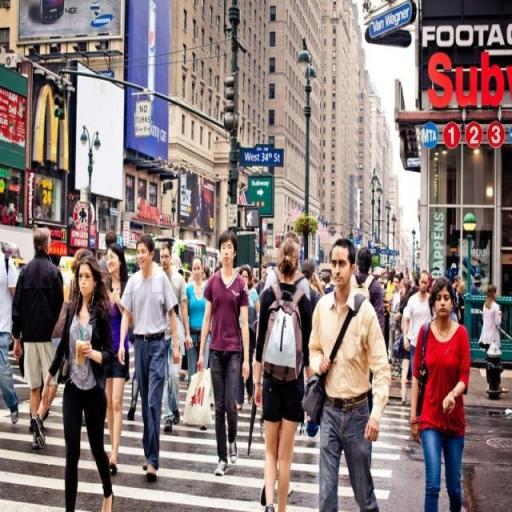person: (313, 234, 389, 512), (46, 257, 117, 512), (120, 236, 179, 483), (259, 240, 312, 512), (199, 229, 254, 479), (412, 282, 471, 512), (14, 229, 66, 453), (159, 244, 194, 437), (103, 249, 131, 470), (185, 255, 212, 433), (1, 239, 23, 426), (403, 273, 437, 381), (236, 268, 260, 413), (483, 283, 510, 396), (402, 287, 415, 408), (389, 275, 405, 370)
